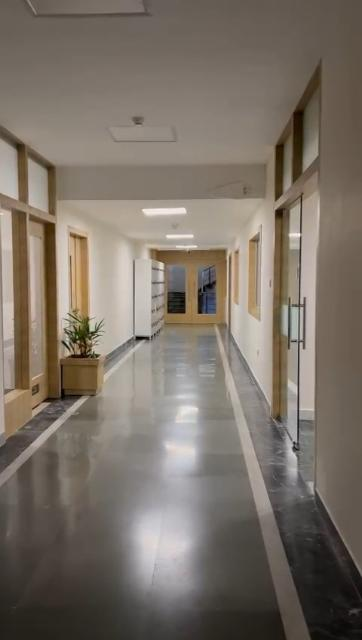door: (264, 117, 320, 469), (0, 128, 54, 410), (164, 252, 228, 324)
floor: (0, 314, 358, 639)
object: (62, 311, 108, 399)
wall: (326, 31, 362, 505), (95, 232, 136, 334), (239, 228, 247, 338)
